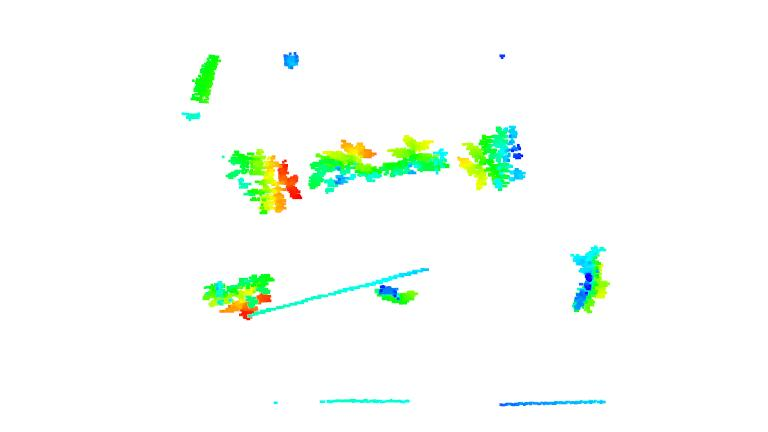chickpea: (224, 147, 302, 215), (459, 125, 529, 195), (305, 139, 380, 193), (203, 272, 277, 322), (380, 136, 451, 181), (567, 245, 609, 313), (372, 284, 420, 311)
